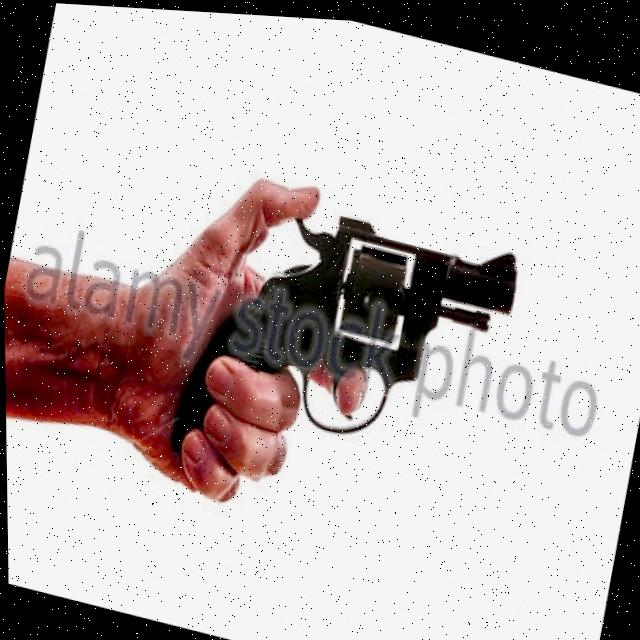pistol: (160, 168, 527, 525)
